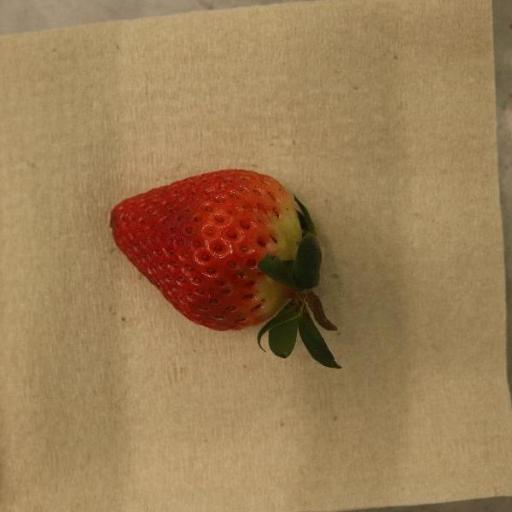Strawberry: (110, 169, 343, 370)
